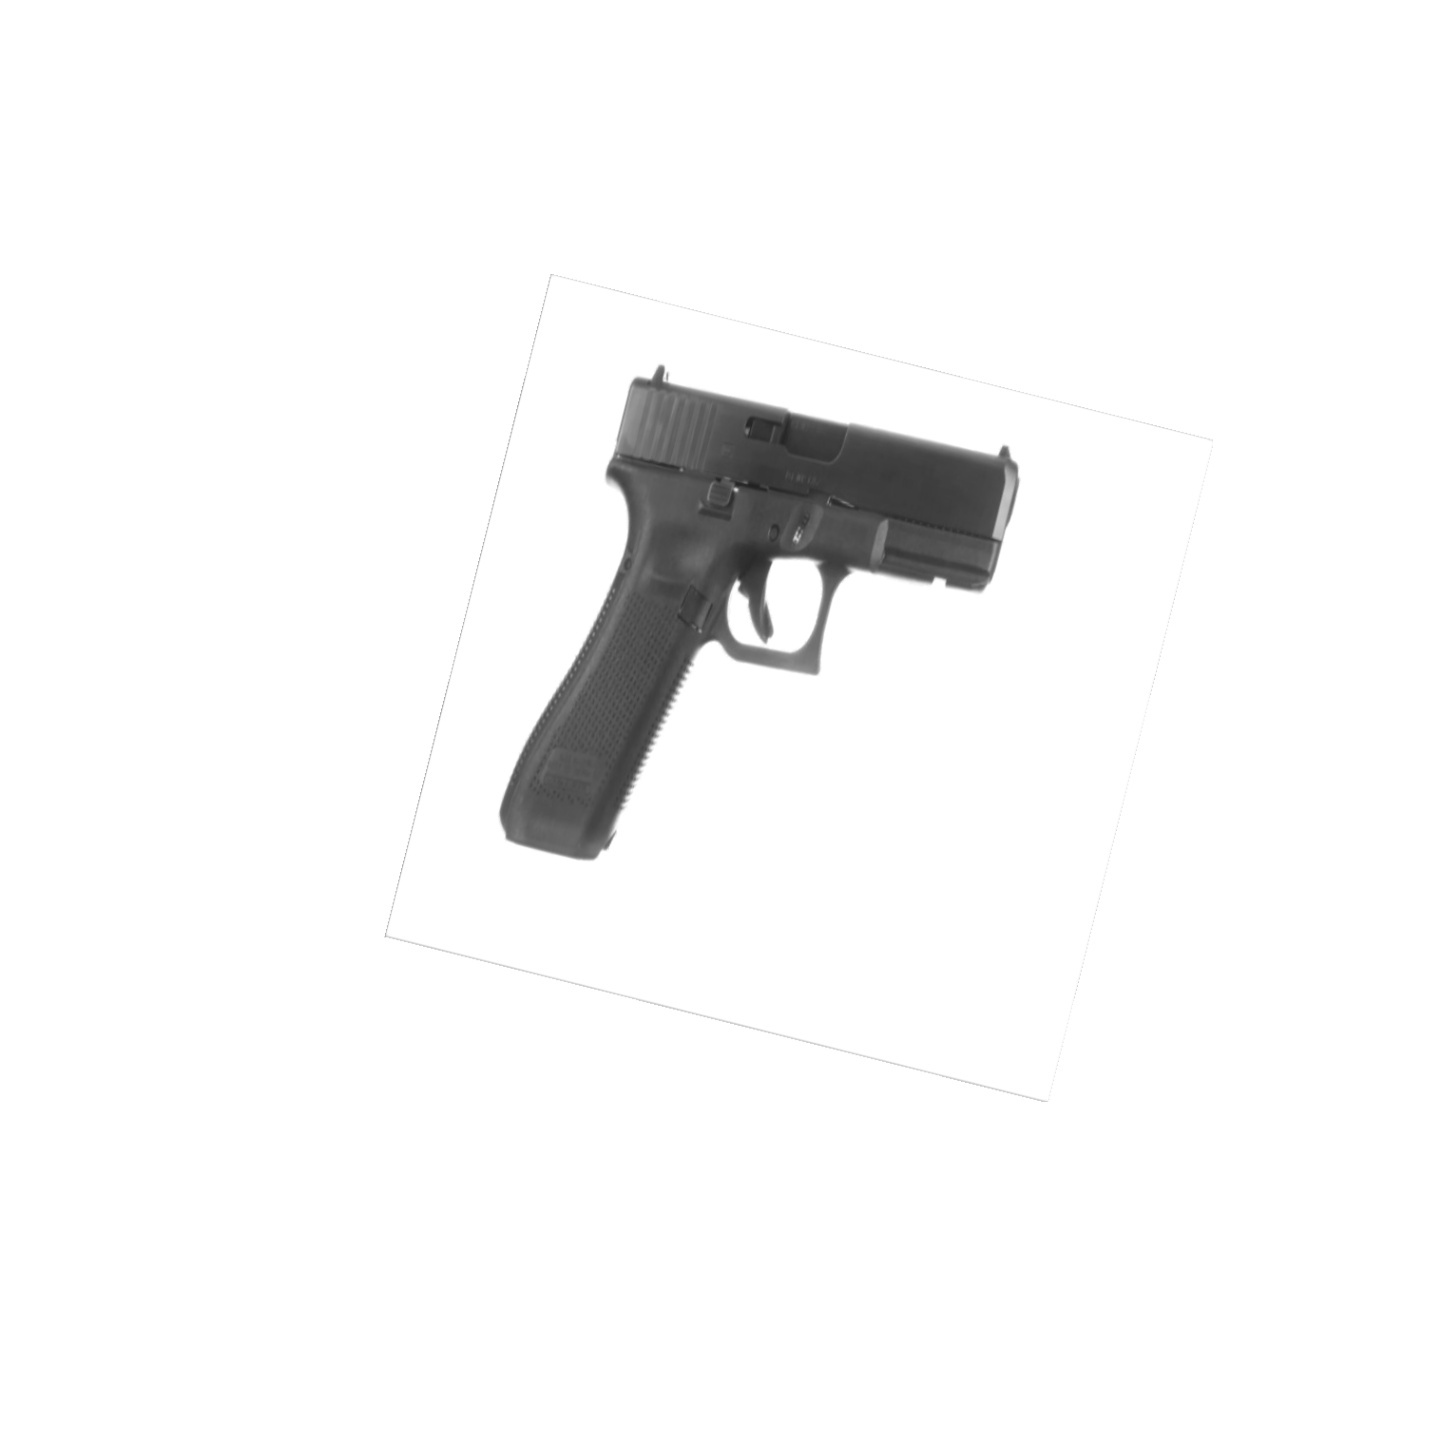gun: (494, 357, 1028, 868)
